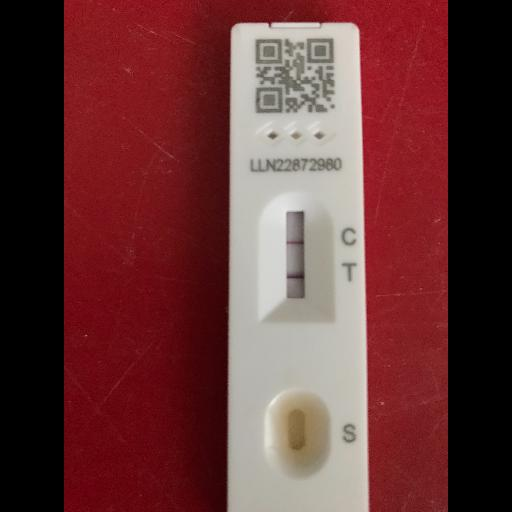Pos: (230, 20, 370, 510)
